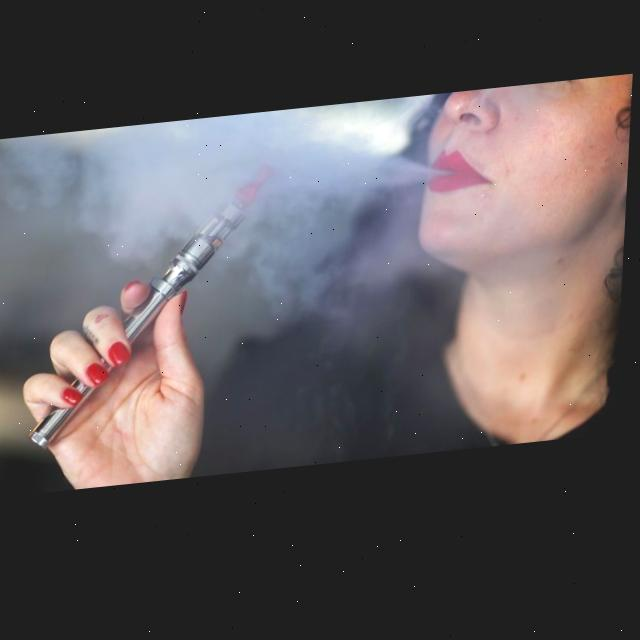vape: (35, 170, 275, 453)
